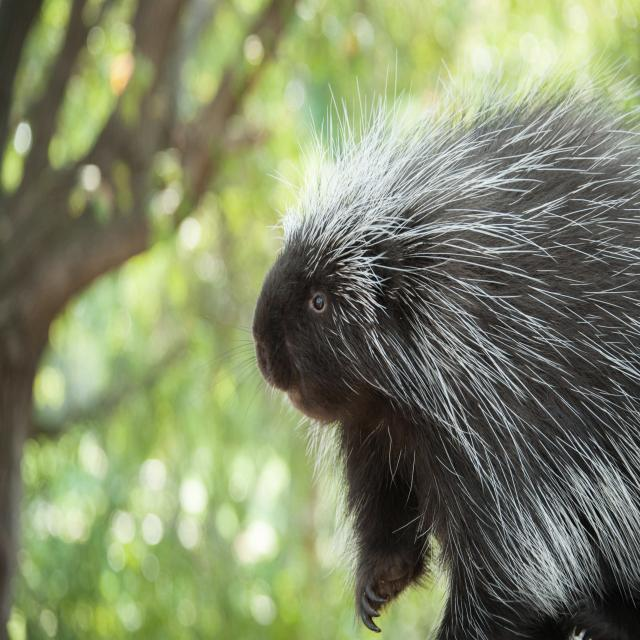porcupine: (252, 83, 640, 640)
